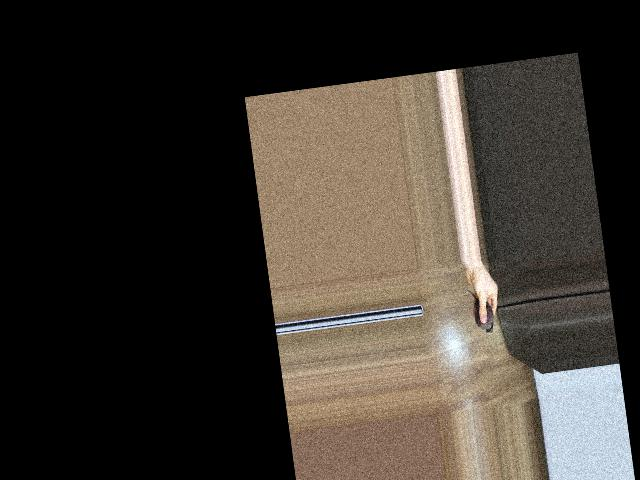beet: (464, 287, 495, 336)
